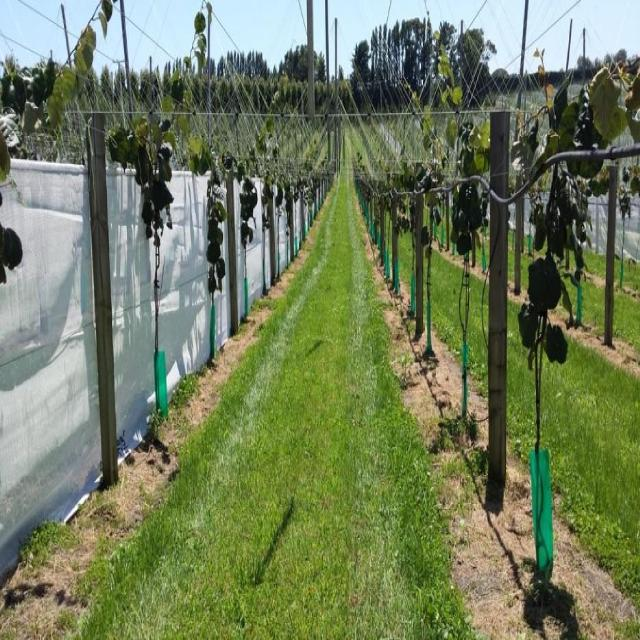row: (8, 173, 517, 640), (390, 223, 640, 632)
